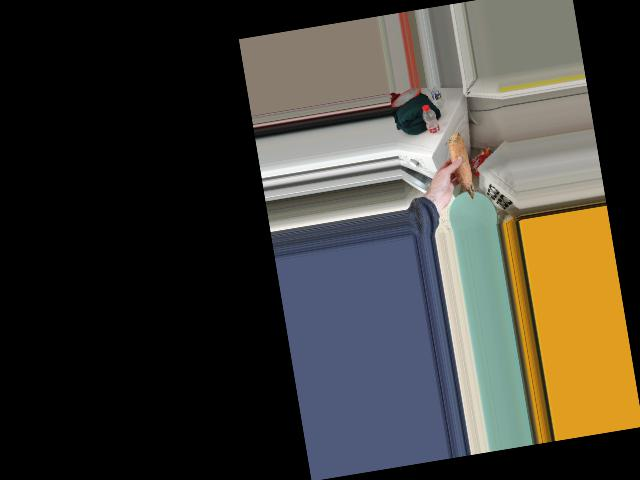sweet_potato: (442, 127, 480, 201)
